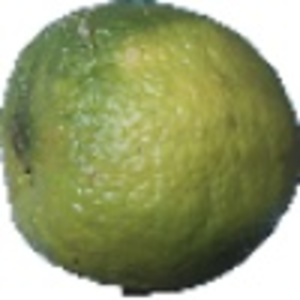limão: (1, 1, 300, 295)
